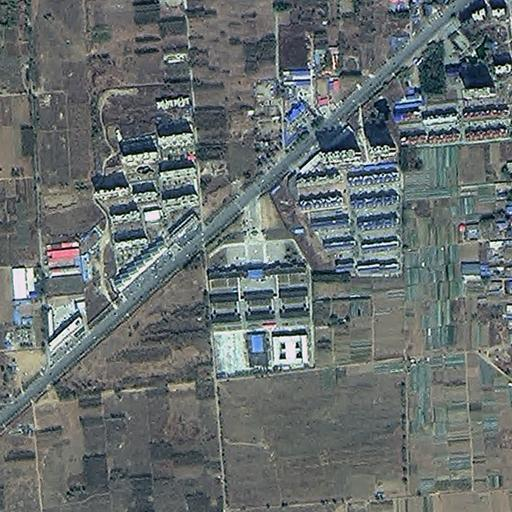school: (204, 231, 308, 380)
